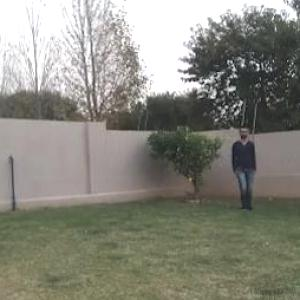follow: (234, 122, 257, 217)
